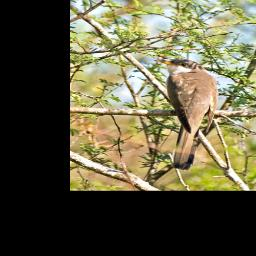Cuckoo: (154, 58, 219, 170)
